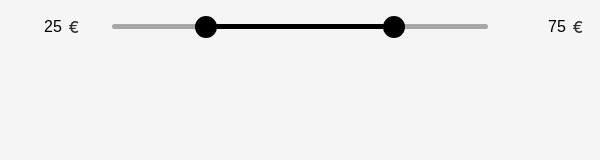
Test: Range component › User interactions › should restore original value if input is invalid (NaN)
The image size is (600, 160).
Replace the text in the field named "Minimum value" with "abc" at (42, 26), box [17,13,67,40]
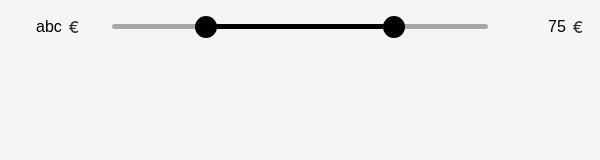
Press Tab
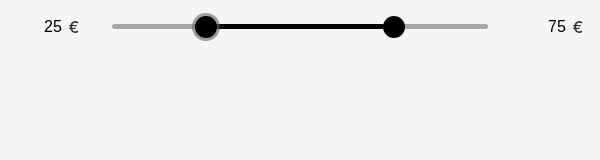
Result: the field named "Minimum value" holds "25" at [17,13,67,40]
